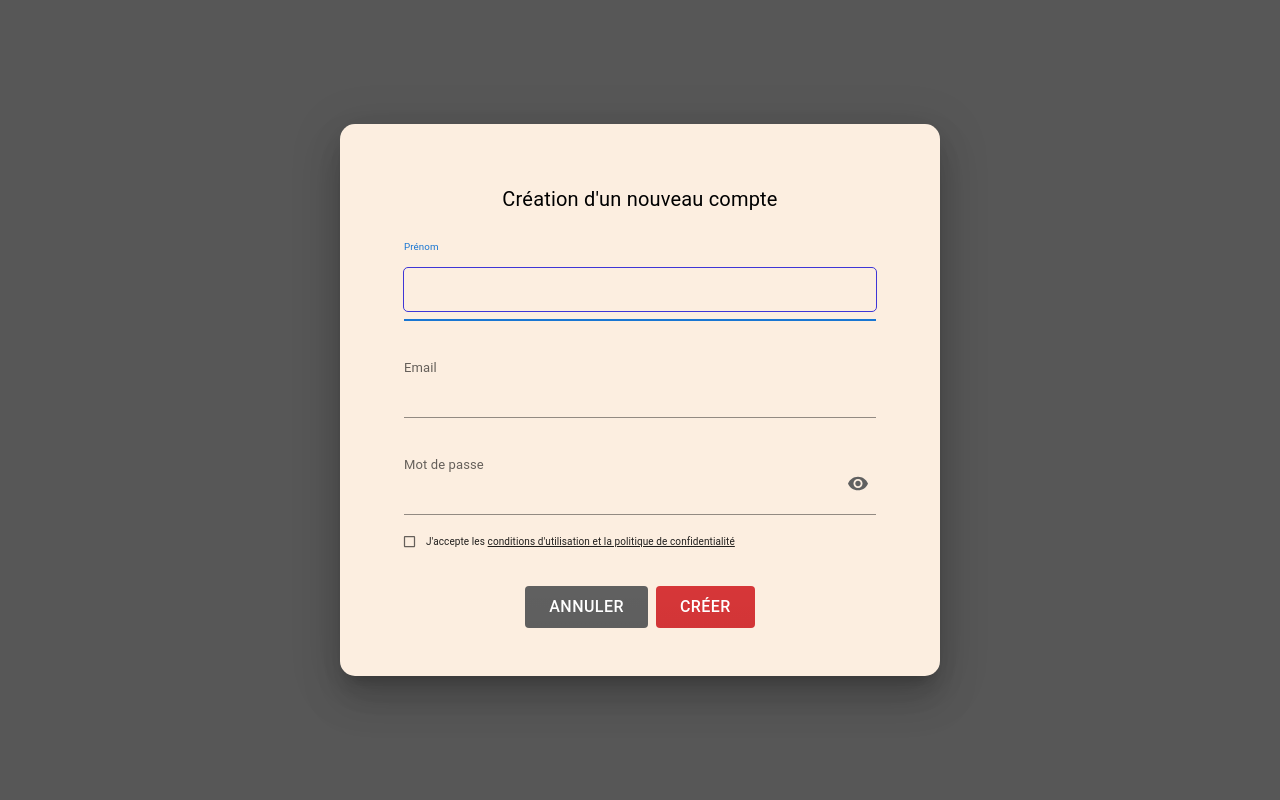
Test: <CreateUserDialog /> › validates inputs and shows error messages
Type "invalidemail" into the field labelled "Email" at (640, 386), box [404,365,876,408]
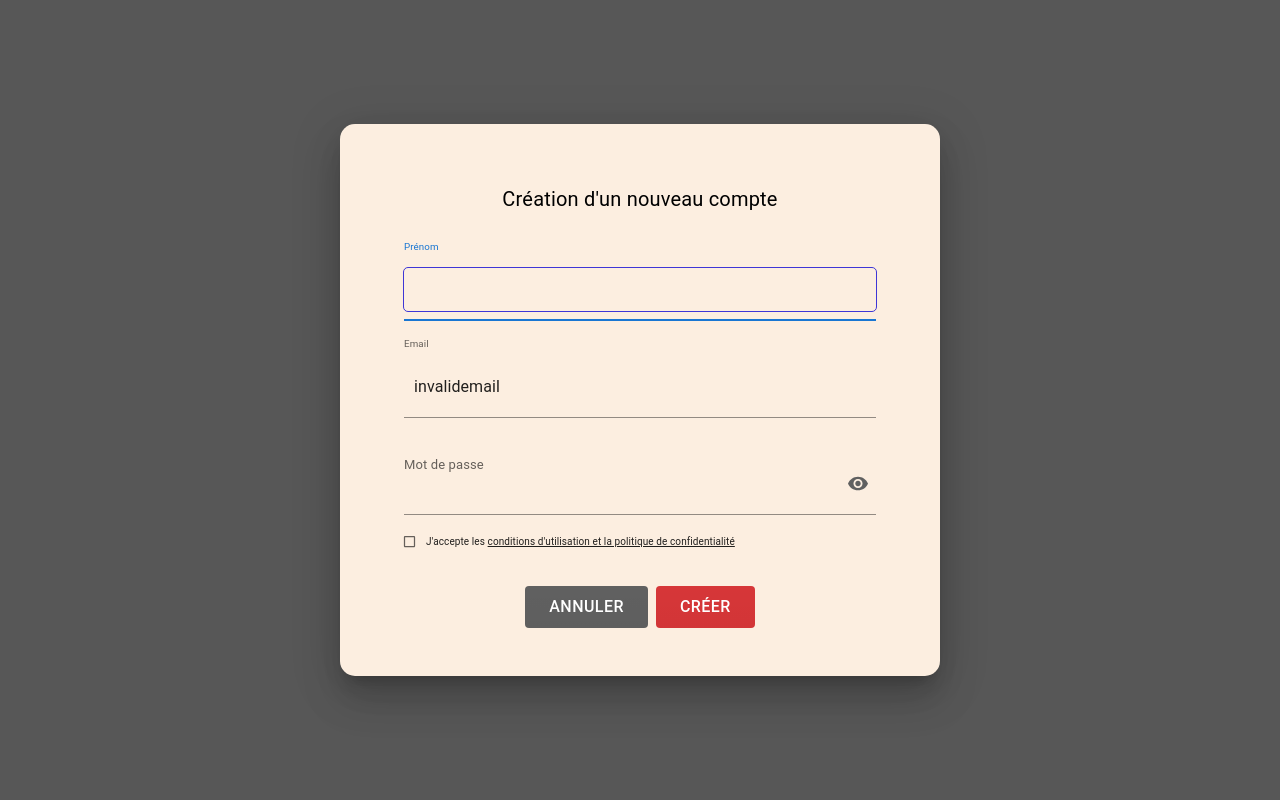
Type "short" into the password field labelled "Mot de passe" at (618, 484), box [404,462,832,505]
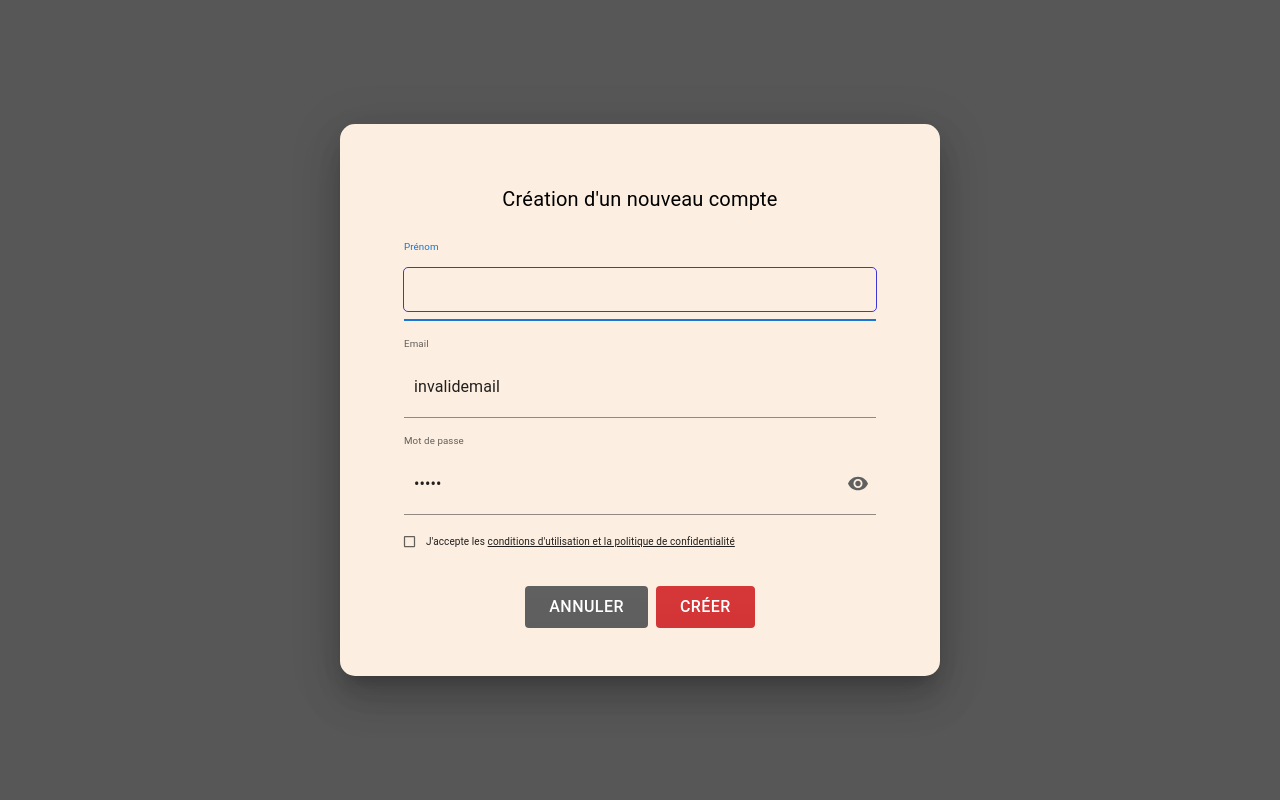
Click the button "Créer" at (705, 607), box [656,586,755,628]
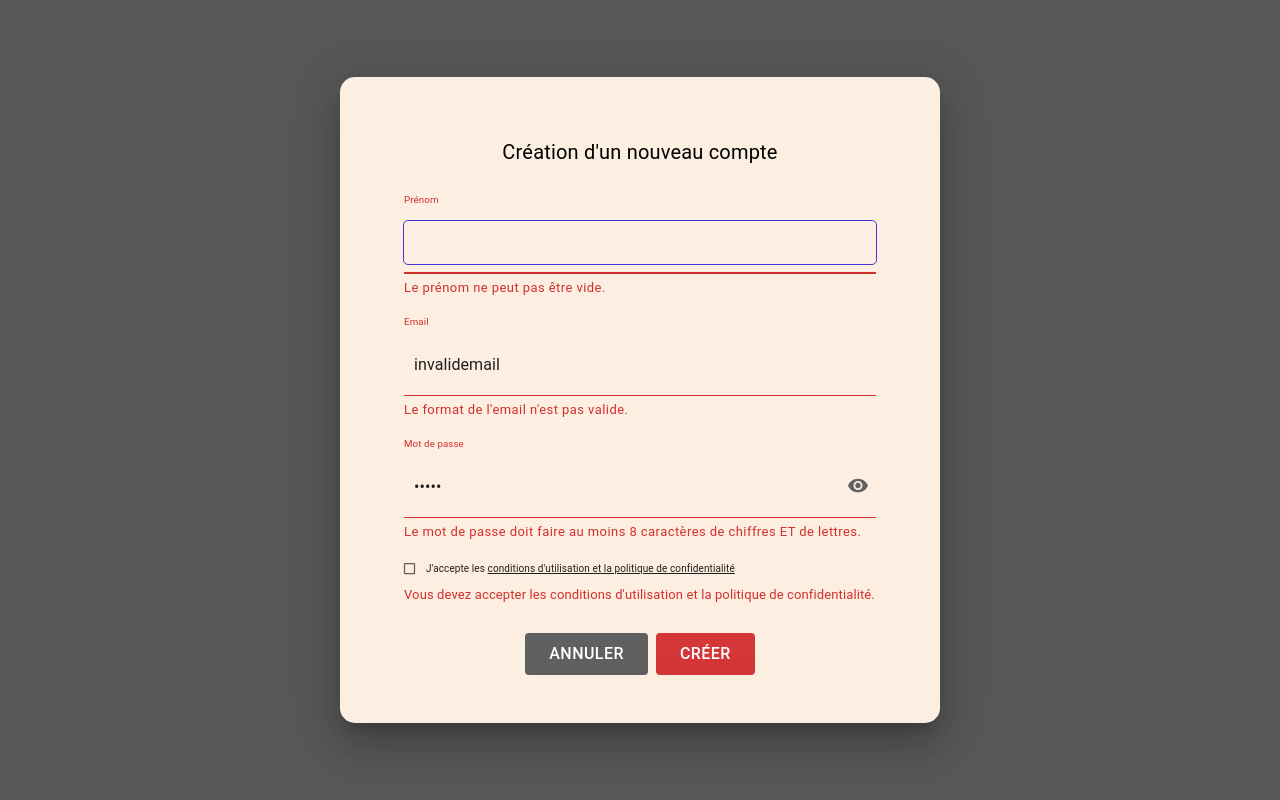
Result: the text "Le prénom ne peut pas être vide." is shown at [404,280,606,295]
Result: the text "Le format de l'email n'est pas valide." is shown at [404,402,628,417]
Result: the text "Le mot de passe doit faire au moins 8 caractères de chiffres ET de lettres." is shown at [404,520,876,542]
